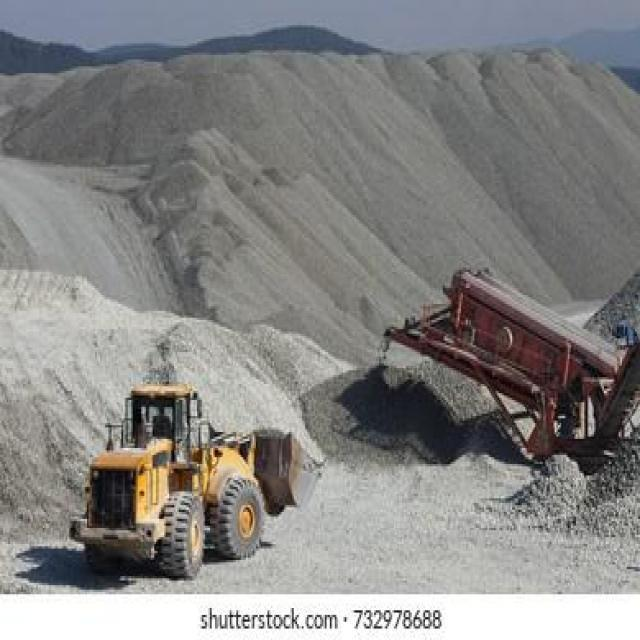Robbery: (148, 400, 176, 439)
